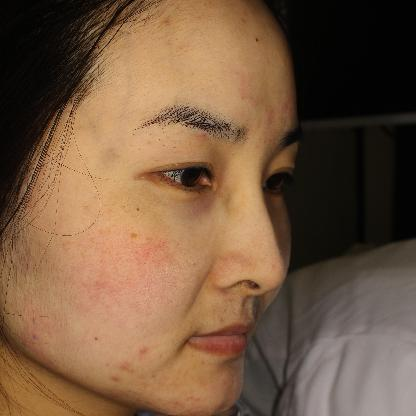Blackheads: (247, 31, 266, 52)
